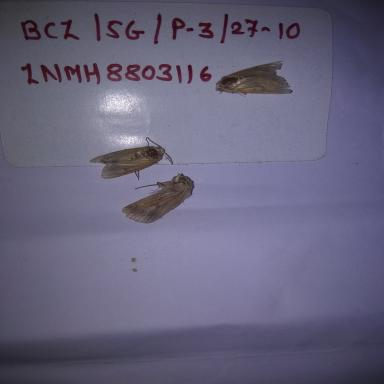abw: (116, 170, 202, 228), (84, 133, 178, 182), (208, 53, 296, 105)
